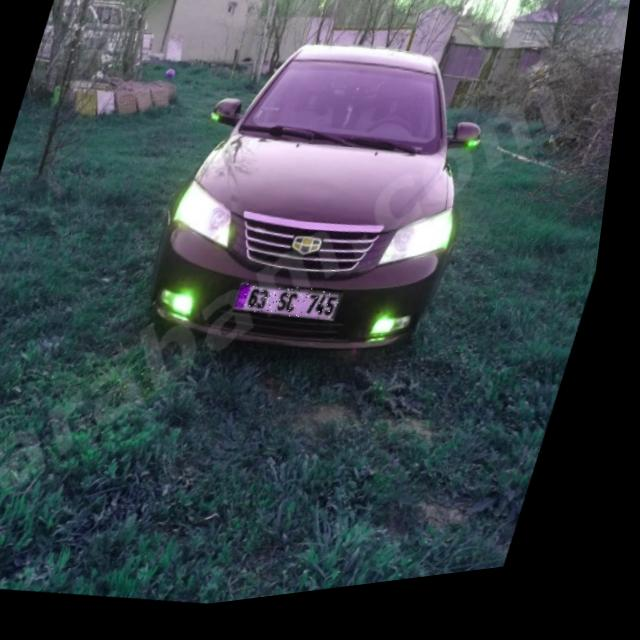license_plate: (240, 280, 354, 340)
